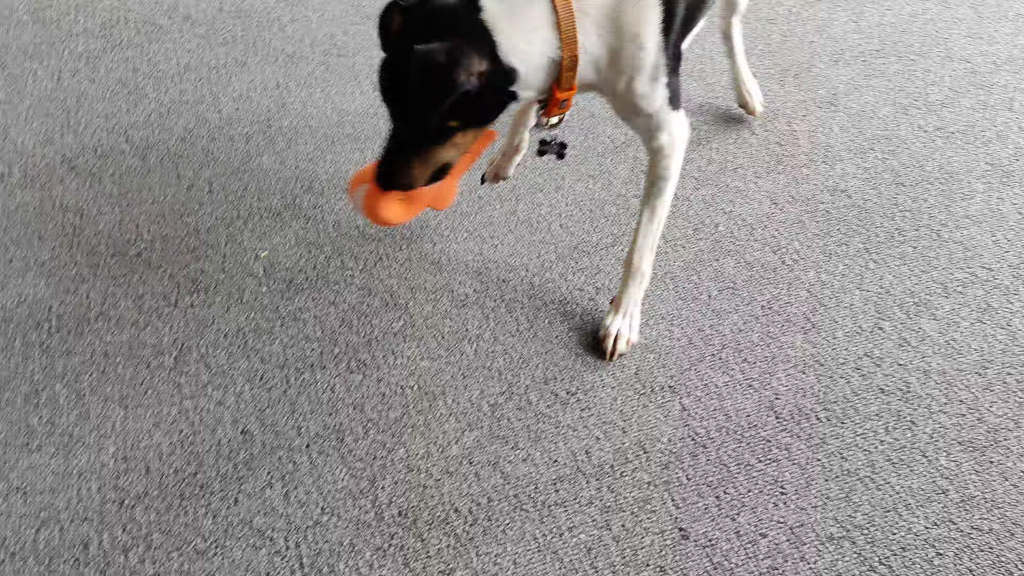Dog: (362, 0, 781, 381)
